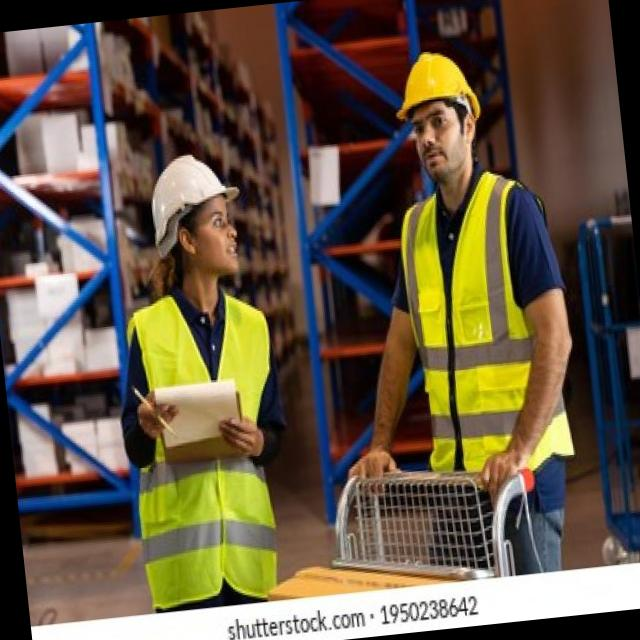Helmet: (137, 142, 250, 258), (391, 42, 484, 123)
Vest: (392, 161, 576, 478), (124, 282, 284, 602)
